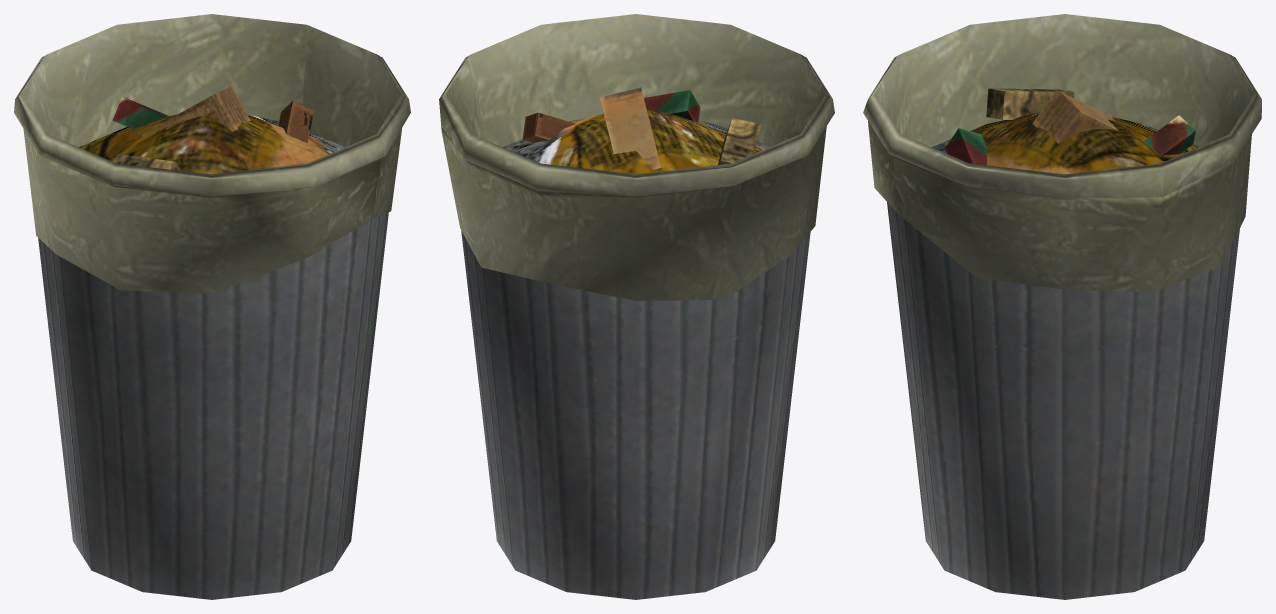
The model's file is Prop_Ljt02.glb.
3 views of the same model, side by side, from view 1: azimuth 30°, elevation 25°; view 2: azimuth 150°, elevation 25°; view 3: azimuth 270°, elevation 25° (orthographic).
Parts seen in each view (by area): view 1: xiutz_ljt_02; view 2: xiutz_ljt_02; view 3: xiutz_ljt_02.
Boxes of the visible parts, left/top/right/bottom form: xiutz_ljt_02: left=14, top=14, right=410, bottom=599; xiutz_ljt_02: left=439, top=14, right=834, bottom=599; xiutz_ljt_02: left=863, top=14, right=1261, bottom=599.
Size of the model in its own units: 0.4458 by 0.5591 by 0.4484.
Materials: 1 (1 with a texture image).
